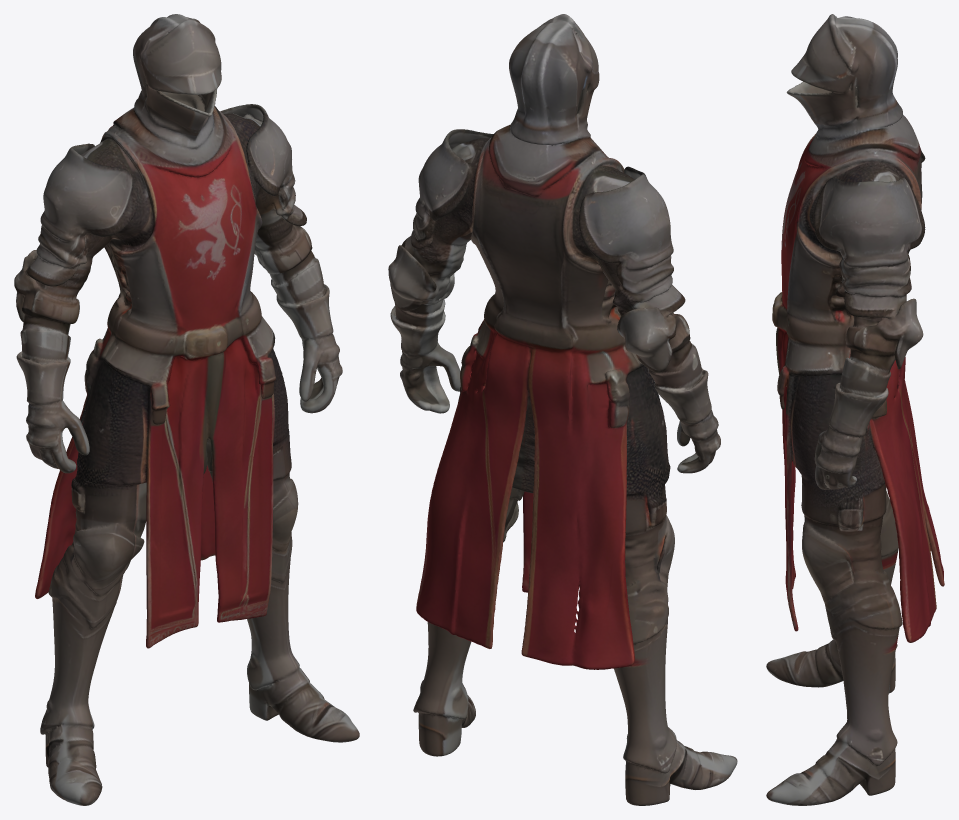
Rendered from red-herald-knight.glb.
3 views of the same model, side by side, from view 1: azimuth 30°, elevation 25°; view 2: azimuth 150°, elevation 25°; view 3: azimuth 270°, elevation 25° (orthographic). The views are drawn at different scales.
Parts seen in each view (by area): view 1: tripo_node_cdb9f70d-58f4-4f37-a1ae-9a109e6dcc9e; view 2: tripo_node_cdb9f70d-58f4-4f37-a1ae-9a109e6dcc9e; view 3: tripo_node_cdb9f70d-58f4-4f37-a1ae-9a109e6dcc9e.
Boxes of the visible parts, x1,y1,x2,y2 form: tripo_node_cdb9f70d-58f4-4f37-a1ae-9a109e6dcc9e: (14, 14, 359, 805); tripo_node_cdb9f70d-58f4-4f37-a1ae-9a109e6dcc9e: (388, 14, 737, 805); tripo_node_cdb9f70d-58f4-4f37-a1ae-9a109e6dcc9e: (766, 14, 944, 805).
Bounding box in the file's own units: 0.4412 × 1 × 0.2236.
Materials: 1 (1 with a texture image).
